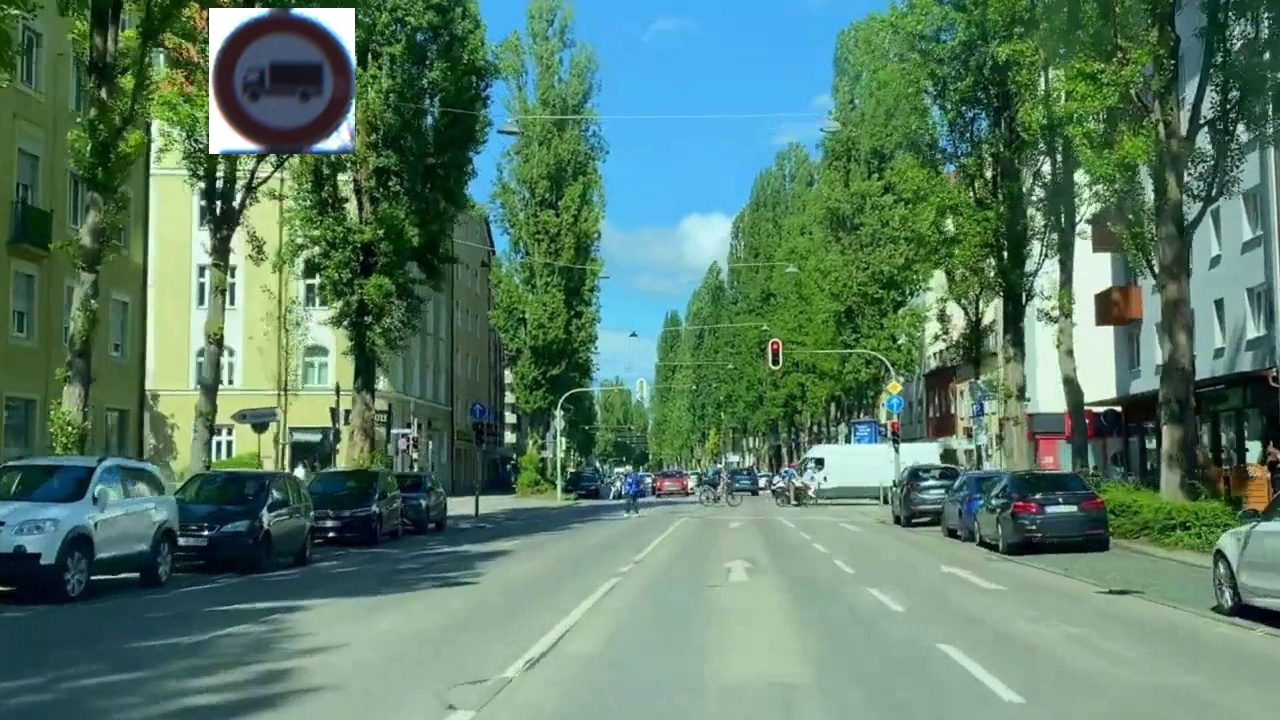Veh >3.5t prohib: (209, 8, 355, 154)
